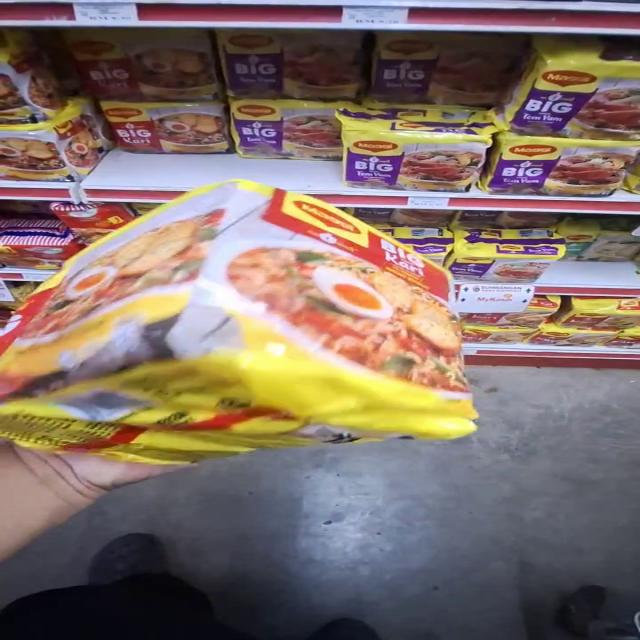Maggi: (0, 290, 503, 470), (37, 177, 487, 340), (511, 58, 640, 132), (487, 136, 640, 196), (341, 132, 489, 191), (80, 99, 230, 156), (238, 99, 344, 159)
